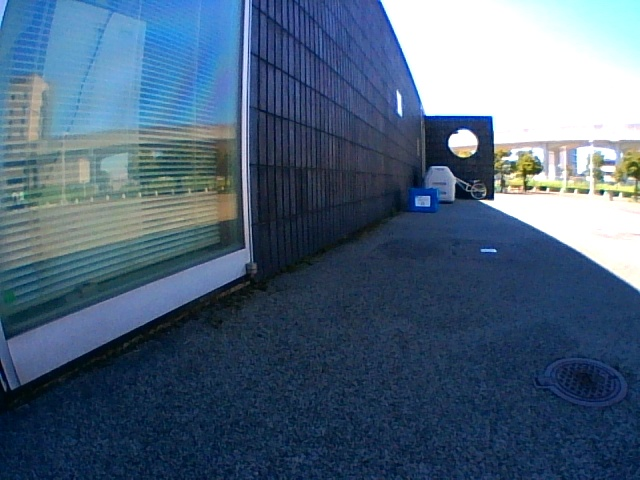blue_box: (411, 188, 438, 212)
tag: (416, 196, 430, 206)
